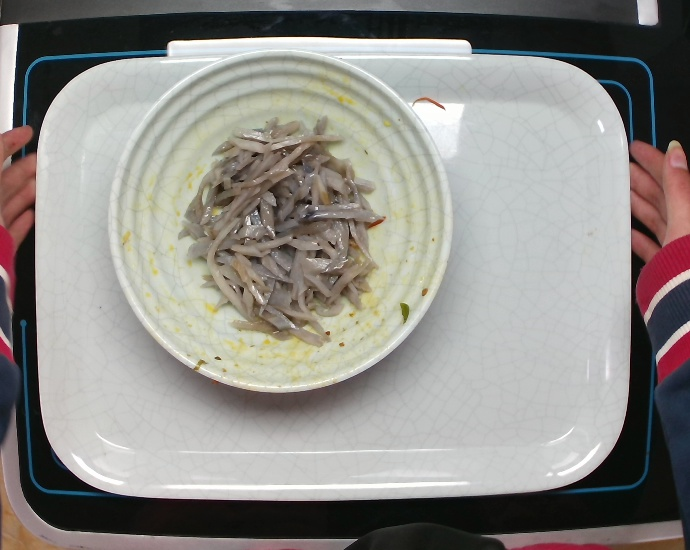JYsf-Da_Tang_Wan: (105, 50, 454, 394)
